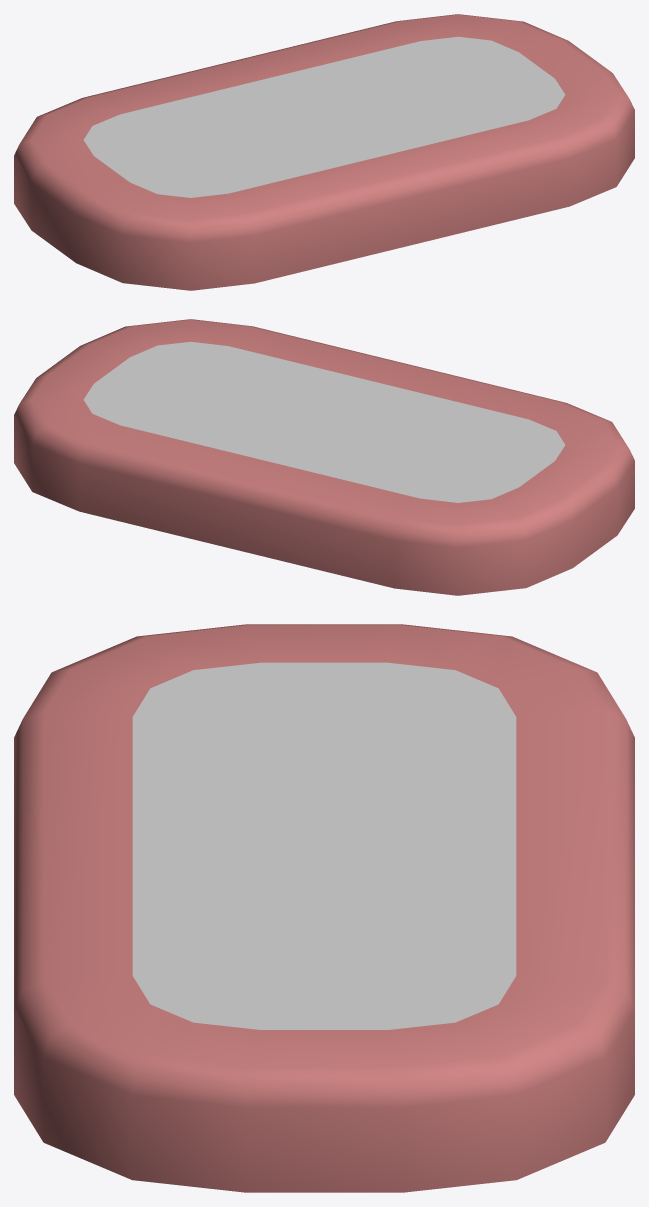
The model's file is Ellipse Start Finish.fbx.
The picture shows the model from 3 angles, top to bottom: view 1: azimuth 30°, elevation 25°; view 2: azimuth 150°, elevation 25°; view 3: azimuth 270°, elevation 25°; orthographic projection. The views are drawn at different scales.
Parts seen in each view (by area): view 1: Finish_01; view 2: Finish_01; view 3: Finish_01.
Part boxes in pixels (<box>): Finish_01: <box>14,14,634,290</box>; Finish_01: <box>14,319,634,595</box>; Finish_01: <box>14,624,634,1192</box>.
Bounding box in the file's own units: 876 × 98.15 × 491.
